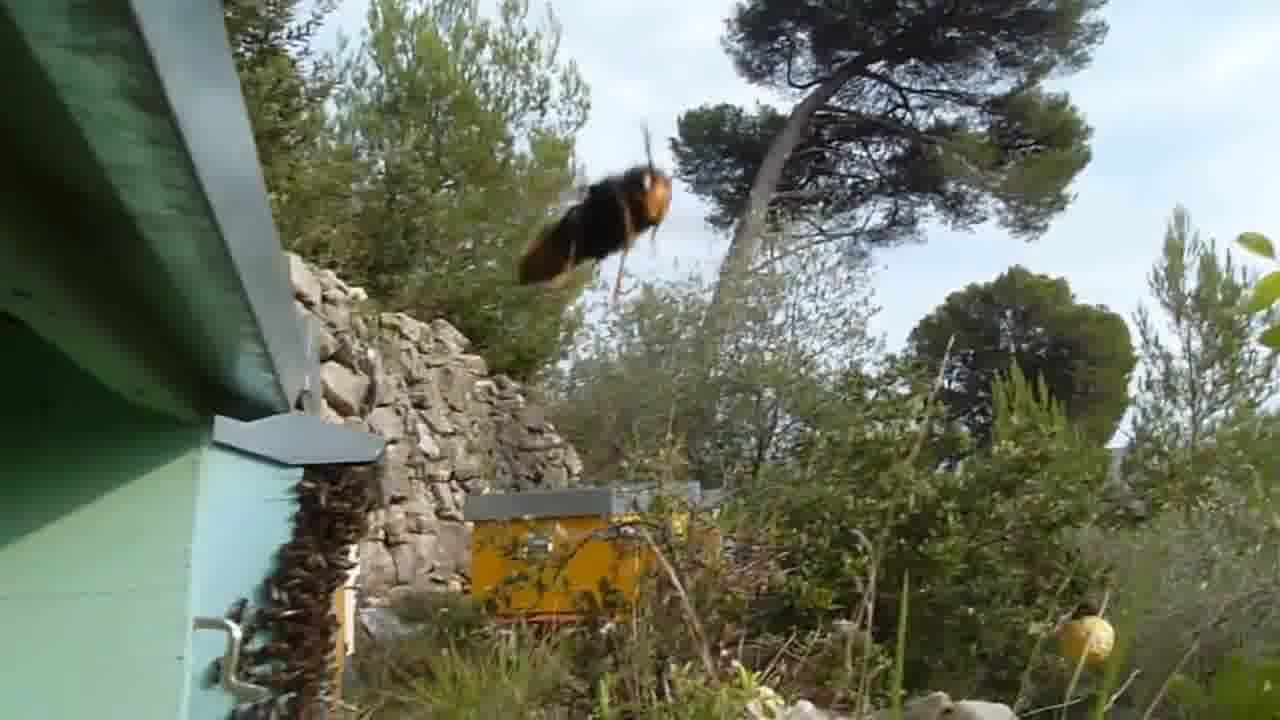bee: (240, 575, 349, 696), (282, 472, 385, 569)
hornet: (503, 141, 688, 303)
